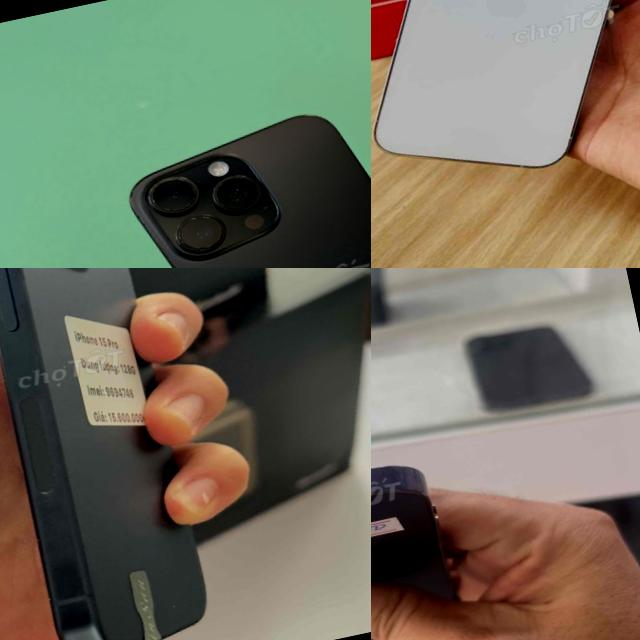gen_12_13: (371, 0, 640, 204)
gen_14: (371, 440, 474, 640)
gen_15: (0, 268, 268, 640)
gen_16: (130, 115, 371, 268)
scratch: (170, 602, 178, 608)
